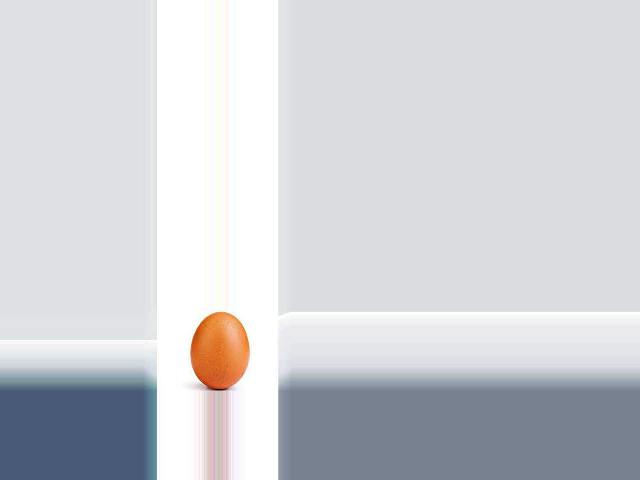egg: (190, 312, 249, 389)
